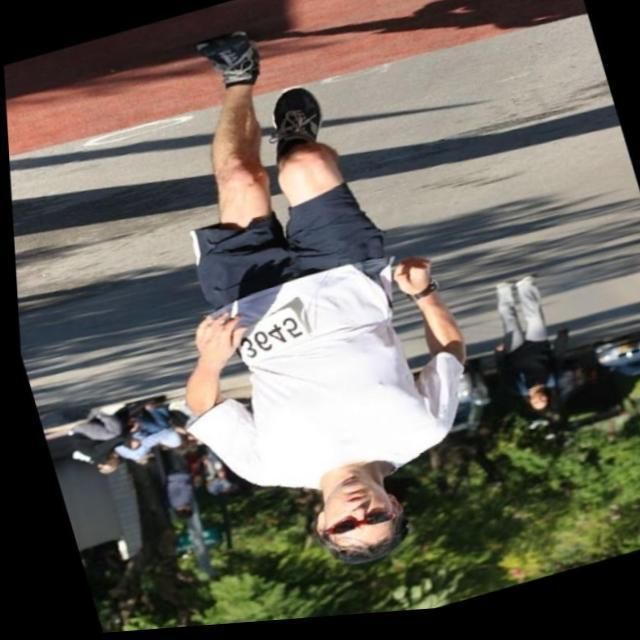dorsal: (220, 302, 315, 376)
